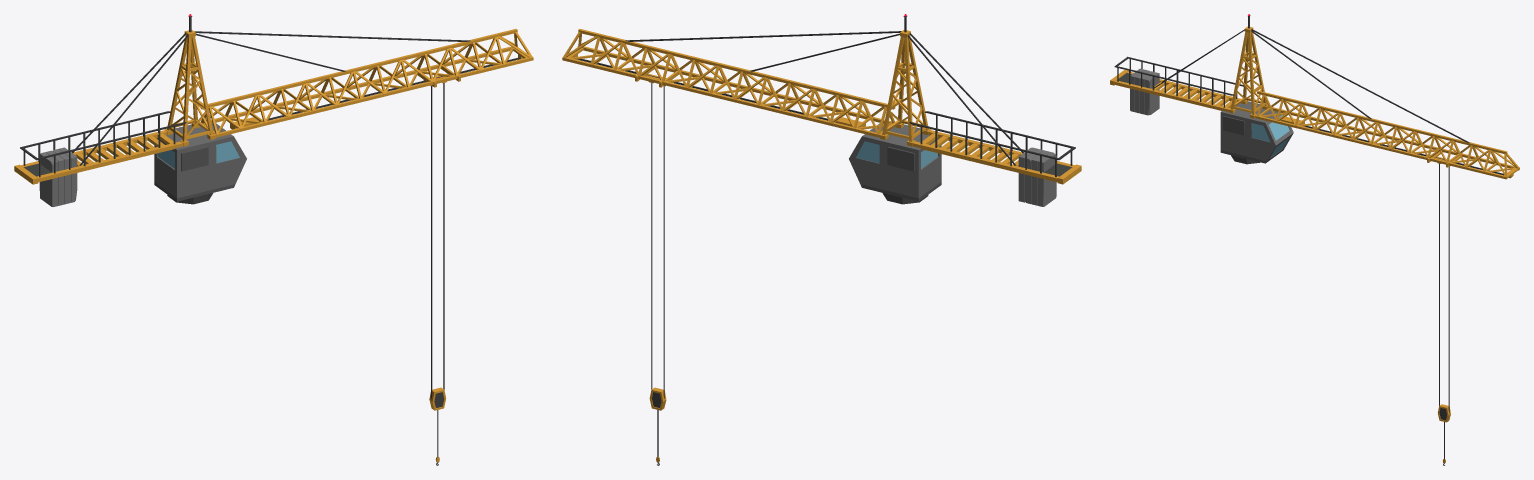
File: SM_Props_TowerCrane_02_2.glb
3 views of the same model, side by side, from view 1: azimuth 30°, elevation 25°; view 2: azimuth 150°, elevation 25°; view 3: azimuth 330°, elevation 25° (orthographic). The views are drawn at different scales.
Parts seen in each view (by area): view 1: SM_Props_TowerCrane_02_2; view 2: SM_Props_TowerCrane_02_2; view 3: SM_Props_TowerCrane_02_2.
Boxes of the visible parts, x1,y1,x2,y2 form: SM_Props_TowerCrane_02_2: [14, 14, 533, 465]; SM_Props_TowerCrane_02_2: [562, 14, 1081, 465]; SM_Props_TowerCrane_02_2: [1110, 14, 1519, 465].
Bounding box in the file's own units: 20.38 × 19.87 × 1.72.
2 materials, 1 textured.
